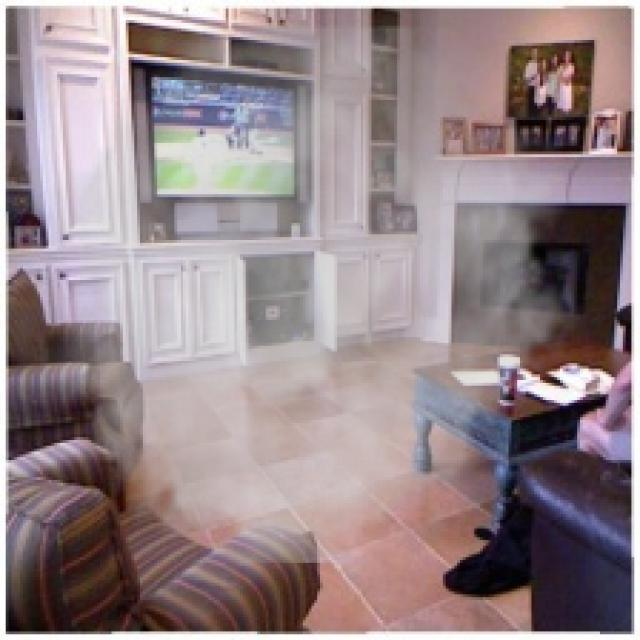Smoke: (31, 26, 586, 563)
